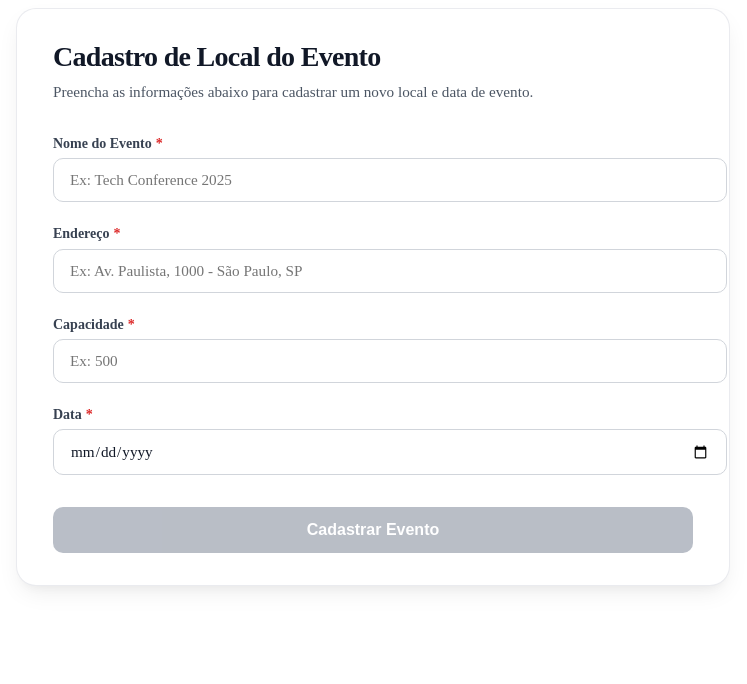
Test: EventForm & EventNewPage › should allow filling out the EventForm and submitting
Expected: the button "Cadastrar Evento" is shown, [53, 507, 693, 553]
Type "Tech Conf 2025" into the field labelled "Nome do Evento *".
click(390, 180); type("Tech Conf 2025")  # box [53, 158, 727, 202]
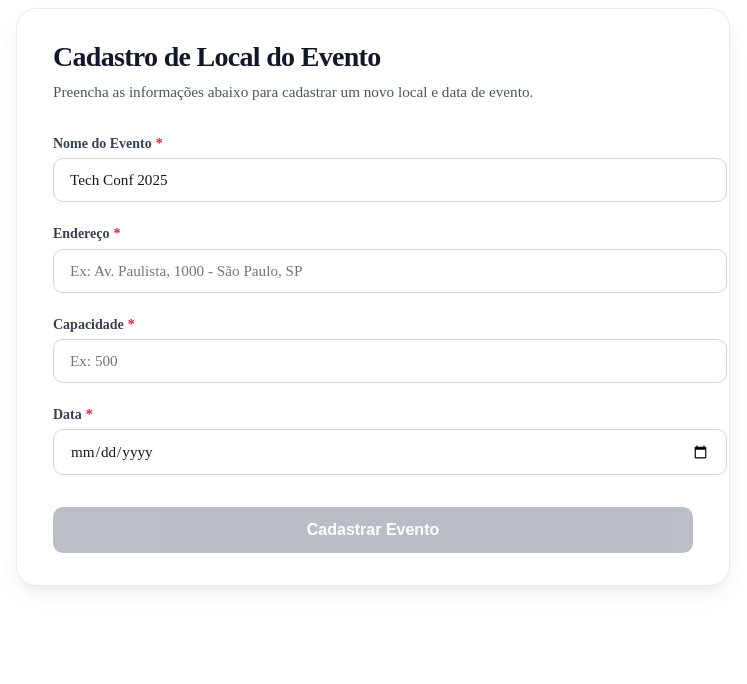
Type "Rua das Flores 123" into the field labelled "Endereço *".
click(390, 271); type("Rua das Flores 123")  # box [53, 249, 727, 293]
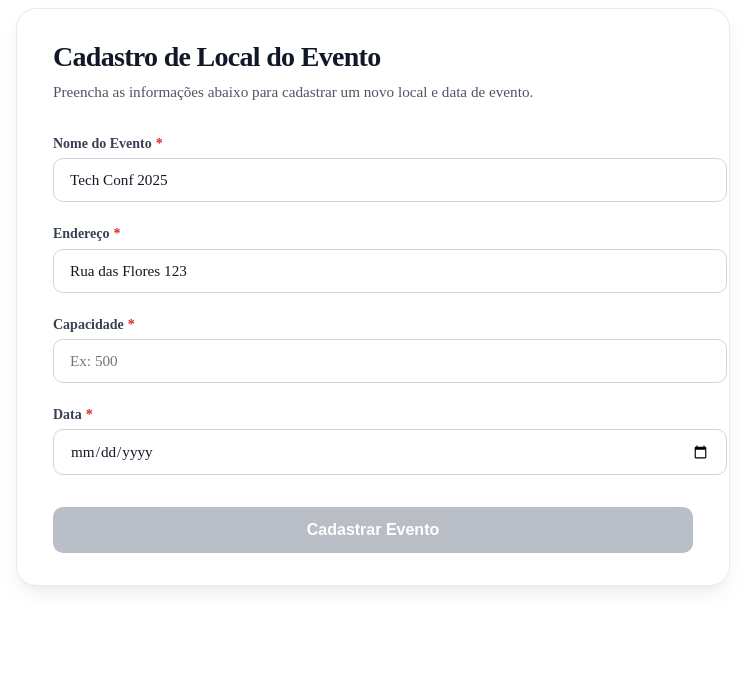
Type "300" into the number field labelled "Capacidade *".
click(390, 361); type("300")  # box [53, 339, 727, 383]
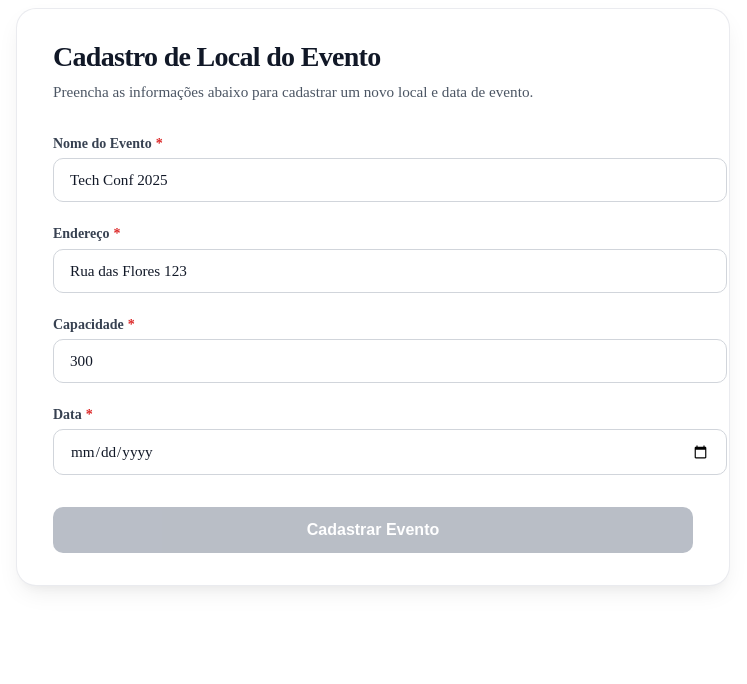
Type "2025-11-15" into the date field labelled "Data *".
click(390, 452); type("2025-11-15")  # box [53, 429, 727, 475]
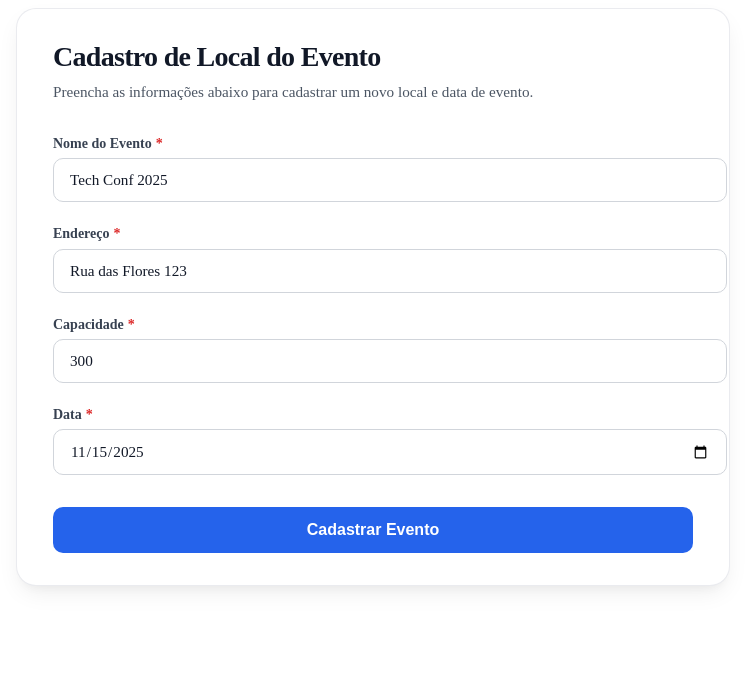
Expected: the button "Cadastrar Evento" is enabled
Click the button "Cadastrar Evento".
click(373, 530)  # box [53, 507, 693, 553]
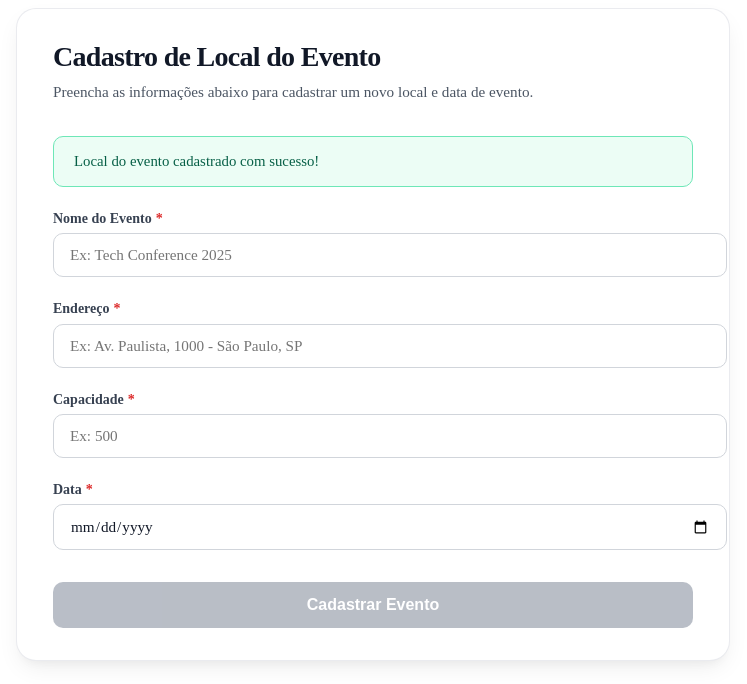
Expected: the text "Local do evento cadastrado com sucesso!" is shown, [53, 136, 693, 187]
